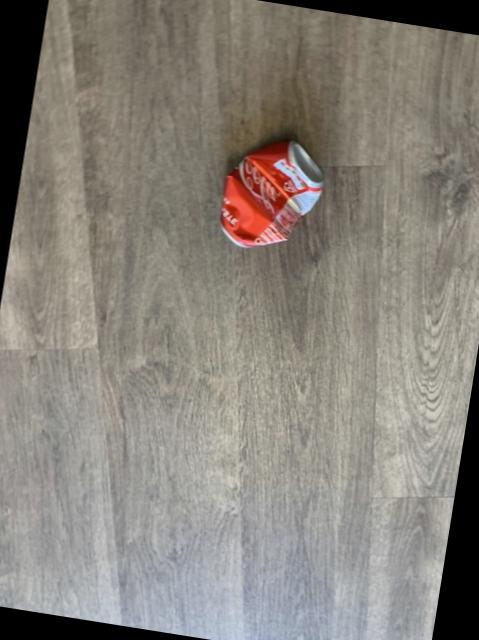metal: (222, 138, 325, 244)
